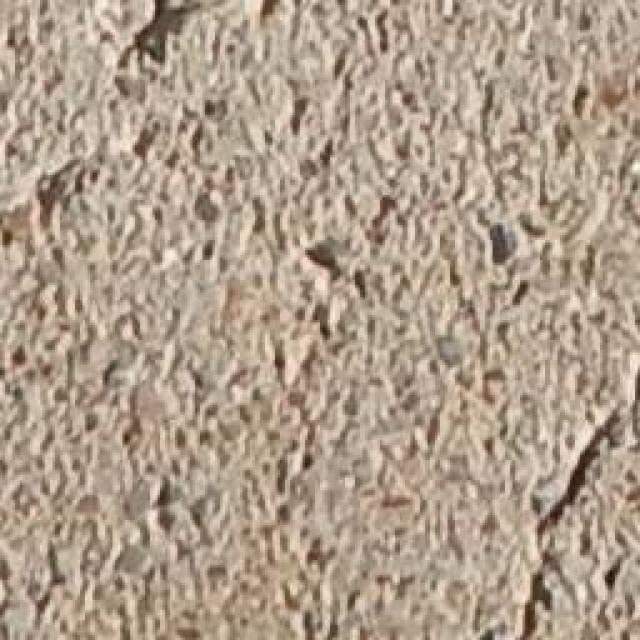concrete-crack: (508, 392, 640, 640)
